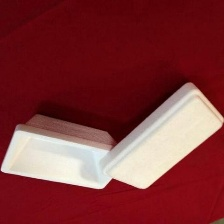foam_box: (96, 78, 224, 194), (0, 109, 120, 194)
